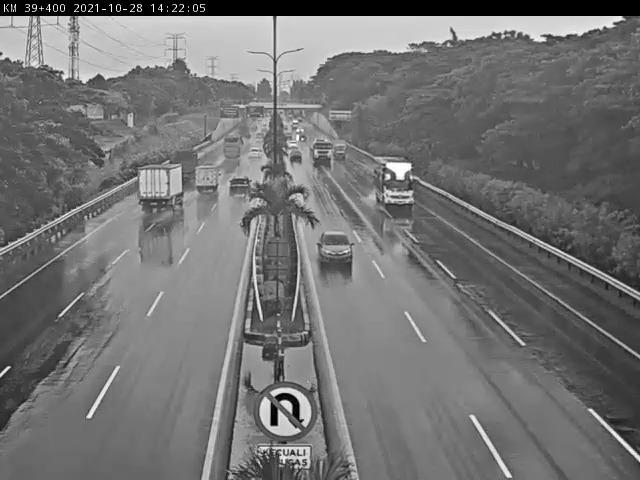car: (313, 228, 353, 266), (226, 176, 252, 199), (250, 146, 263, 161)
small truck: (368, 151, 421, 211), (128, 160, 183, 210), (168, 147, 205, 184), (192, 165, 220, 195)
